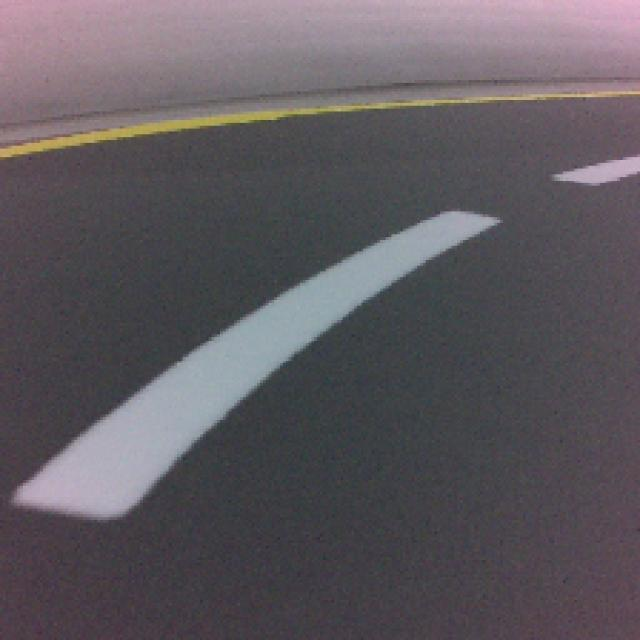Guard rail: (14, 209, 493, 523)
